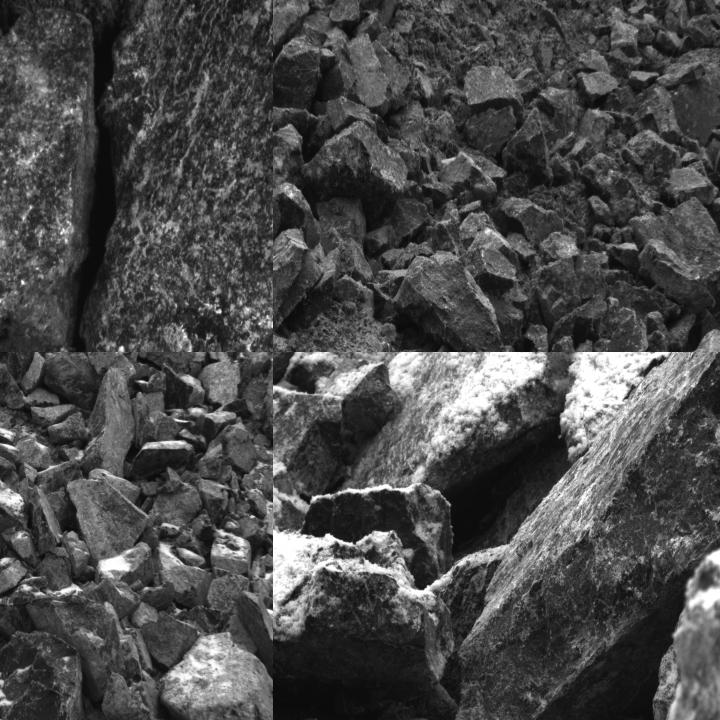stone: (454, 352, 719, 719), (78, 0, 272, 351), (323, 352, 591, 504), (273, 498, 457, 695), (0, 7, 102, 351), (294, 114, 438, 227), (36, 591, 150, 719), (394, 252, 503, 351), (161, 625, 272, 719), (0, 630, 83, 719), (67, 478, 149, 566), (633, 204, 719, 280), (660, 44, 719, 150), (80, 366, 134, 479), (273, 227, 326, 330), (273, 23, 327, 109), (501, 112, 553, 198), (548, 291, 628, 346), (132, 604, 196, 668), (622, 84, 684, 145), (531, 253, 582, 327), (638, 243, 698, 304), (346, 35, 392, 114), (45, 352, 102, 412), (621, 130, 685, 182), (464, 66, 524, 115), (502, 199, 563, 247), (439, 152, 497, 202), (463, 103, 515, 158), (416, 198, 464, 257), (205, 568, 247, 633), (461, 246, 517, 293), (315, 203, 365, 255), (273, 0, 309, 72), (129, 441, 194, 480), (325, 96, 388, 136), (662, 160, 716, 206), (211, 528, 256, 579), (0, 469, 29, 540), (273, 126, 304, 189), (164, 367, 206, 410), (576, 252, 612, 300), (575, 70, 620, 103), (655, 62, 707, 90), (610, 16, 640, 58), (537, 232, 579, 261), (325, 0, 362, 32), (506, 229, 537, 264), (662, 0, 689, 38), (608, 240, 638, 274), (187, 605, 219, 635), (586, 194, 614, 226), (215, 399, 254, 420), (138, 352, 192, 367), (524, 322, 551, 351), (656, 28, 679, 57), (265, 352, 272, 444), (628, 70, 657, 90), (706, 198, 719, 236), (548, 337, 575, 351), (203, 352, 239, 362), (568, 339, 592, 351)
